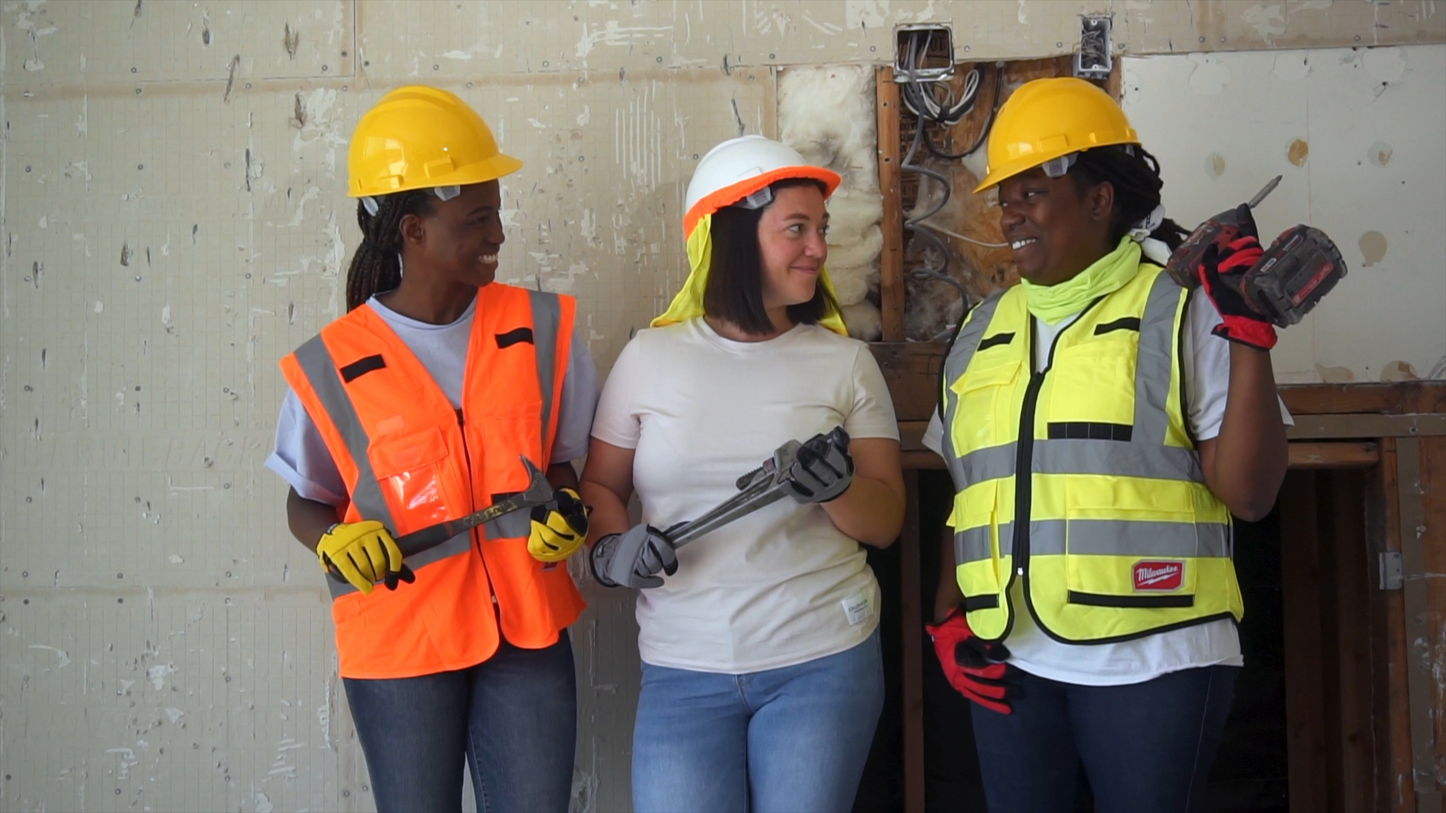gloves: (910, 607, 1035, 734), (1199, 217, 1293, 369), (303, 522, 440, 597), (768, 427, 871, 504), (601, 519, 690, 607), (515, 487, 603, 575)
